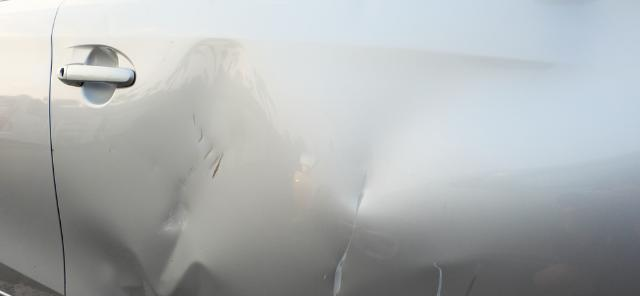dent: (75, 40, 270, 296), (312, 133, 429, 296)
